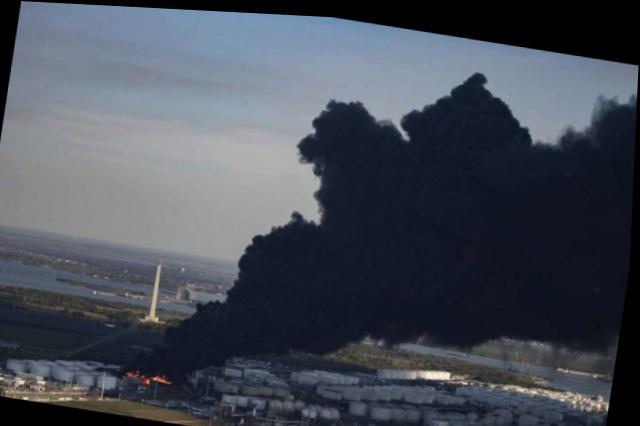smoke: (376, 60, 581, 336), (288, 93, 402, 330), (547, 73, 637, 344), (235, 217, 301, 348), (376, 315, 494, 354), (288, 324, 367, 360), (193, 300, 239, 358), (166, 319, 194, 368), (235, 342, 280, 359), (190, 356, 226, 375), (134, 351, 163, 374)
